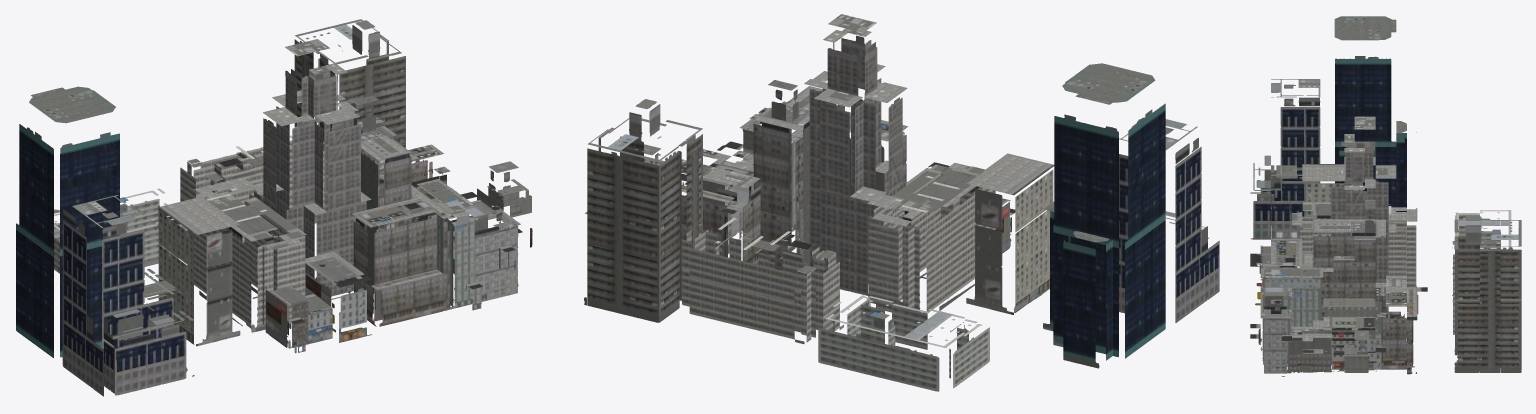
File: block-citya-0-imp.glb
The picture shows the model from 3 angles, left to right: view 1: azimuth 30°, elevation 25°; view 2: azimuth 150°, elevation 25°; view 3: azimuth 270°, elevation 25°; orthographic projection. The views are drawn at different scales.
Visible parts, largest first — view 1: block-citya-0-imp; view 2: block-citya-0-imp; view 3: block-citya-0-imp.
Part boxes in pixels (box(x1,y1,x2,y2)): block-citya-0-imp: box(16, 19, 532, 396); block-citya-0-imp: box(584, 14, 1219, 391); block-citya-0-imp: box(1250, 16, 1521, 376).
Size of the model in its own units: 66 by 30.42 by 39.
Materials: 1 (1 with a texture image).
